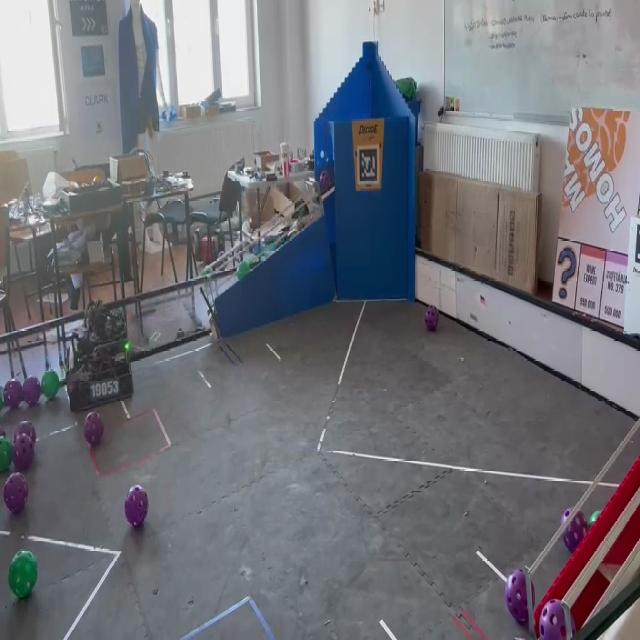artifact_green: (9, 551, 38, 598), (41, 369, 59, 400), (0, 437, 12, 472), (237, 262, 250, 281), (589, 511, 601, 528), (201, 266, 213, 277), (0, 387, 4, 410), (0, 428, 6, 437)
artifact_purple: (505, 569, 528, 625), (539, 600, 567, 639), (563, 512, 588, 553), (4, 473, 28, 514), (125, 486, 148, 527), (12, 434, 34, 472), (85, 413, 103, 447), (4, 378, 23, 410), (14, 421, 36, 445), (23, 377, 41, 406), (425, 306, 439, 332), (320, 169, 331, 194), (0, 428, 6, 437)
